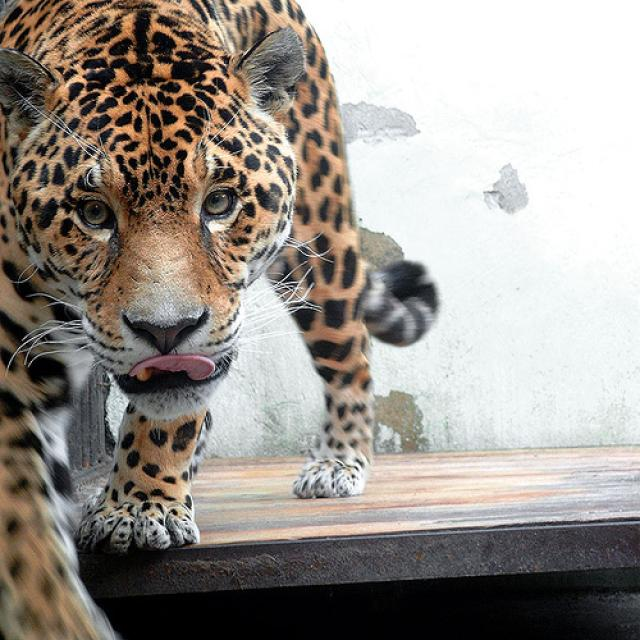Leopard: (0, 0, 440, 636)
